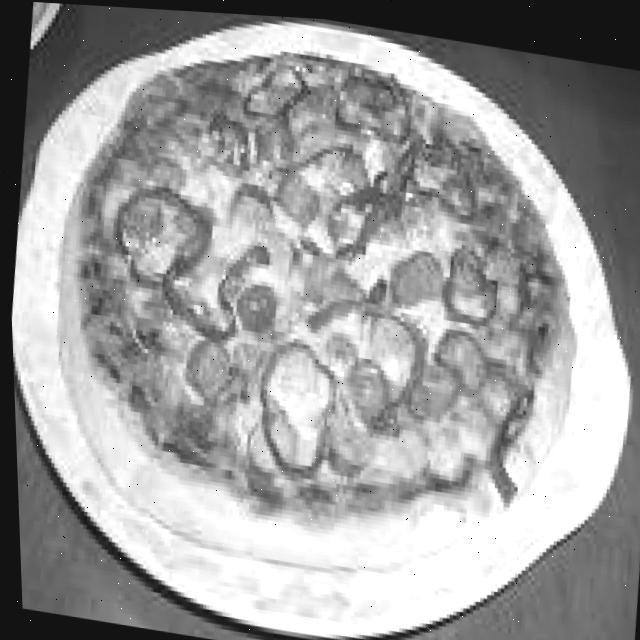汉堡快餐: (26, 5, 617, 606)
